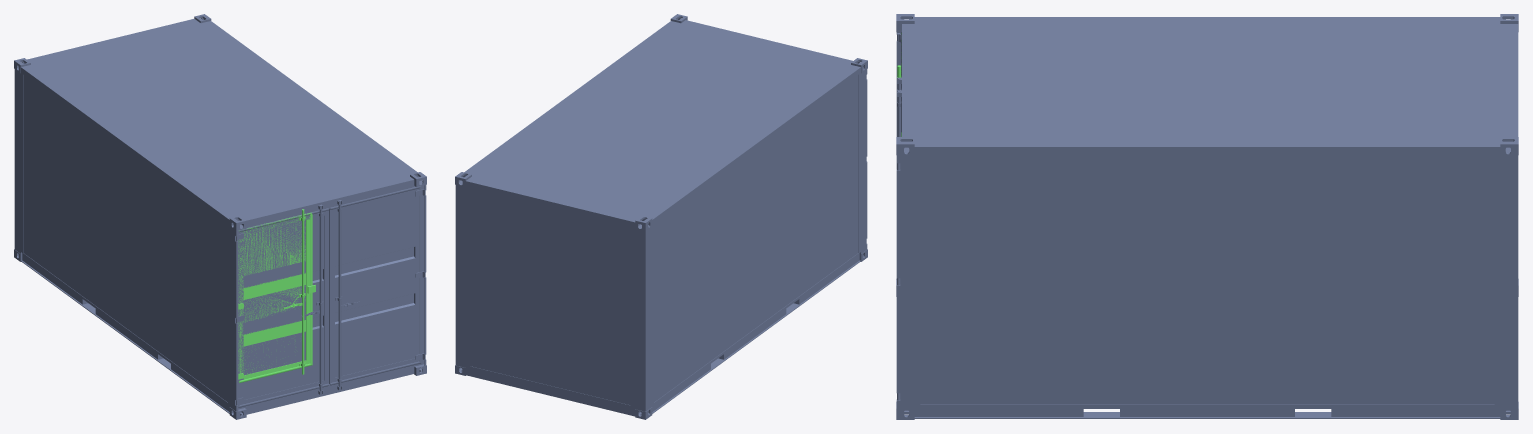
File: Lagercontainer HC 2960 BC 3000.obj
3 views of the same model, side by side, from view 1: azimuth 30°, elevation 25°; view 2: azimuth 150°, elevation 25°; view 3: azimuth 270°, elevation 25° (orthographic). The views are drawn at different scales.
Visible parts, largest first — view 1: |TEst_lagercon~0|Root|Test_Lagercon1~0-1|color, |TEst_lagercon~0|Root|Test_lagercon2~0-1|color-2, |TEst_lagercon~0|Root|SpiegelnTest_lagercon2~0-3|color-4, |TEst_lagercon~0|Root|Test_lagercon3~0-5|color-3; view 2: |TEst_lagercon~0|Root|Test_Lagercon1~0-1|color; view 3: |TEst_lagercon~0|Root|Test_Lagercon1~0-1|color.
Boxes of the visible parts, x1,y1,x2,y2 form: |TEst_lagercon~0|Root|Test_Lagercon1~0-1|color: [14, 14, 426, 419]; |TEst_lagercon~0|Root|Test_lagercon2~0-1|color-2: [329, 186, 425, 389]; |TEst_lagercon~0|Root|SpiegelnTest_lagercon2~0-3|color-4: [236, 205, 329, 407]; |TEst_lagercon~0|Root|Test_lagercon3~0-5|color-3: [238, 209, 315, 382]; |TEst_lagercon~0|Root|Test_Lagercon1~0-1|color: [455, 14, 867, 419]; |TEst_lagercon~0|Root|Test_Lagercon1~0-1|color: [896, 14, 1518, 419].
Bounding box in the file's own units: 3 × 2.96 × 6.06.
